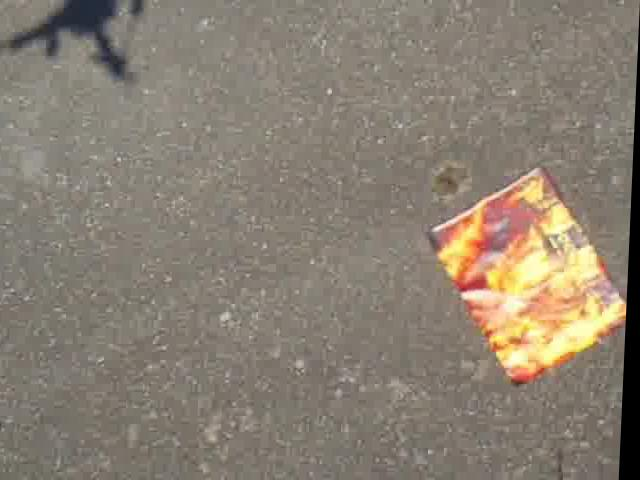fire-poster: (430, 165, 634, 386)
